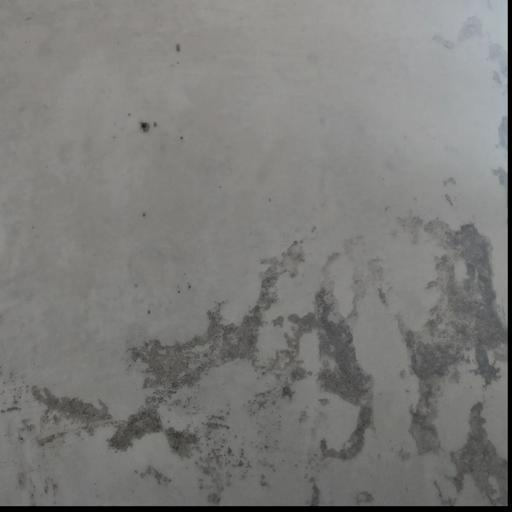peeling: (71, 198, 512, 512)
